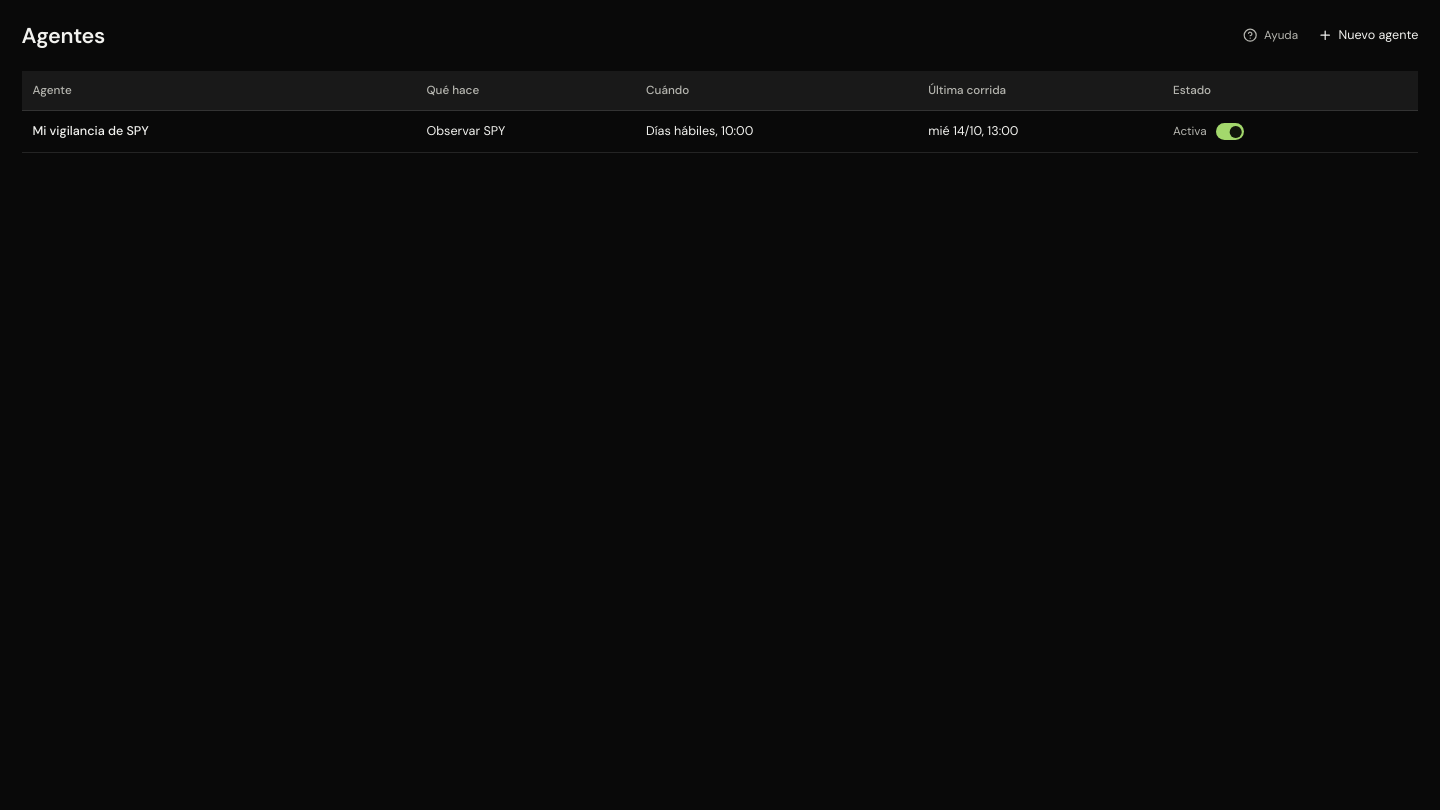
Test: edita instrucciones y modelo mediante un pedido pendiente, sin cambiar frecuencia ni estado
Click the button "Mi vigilancia de SPY" at (91, 131), box [32,123,149,139]
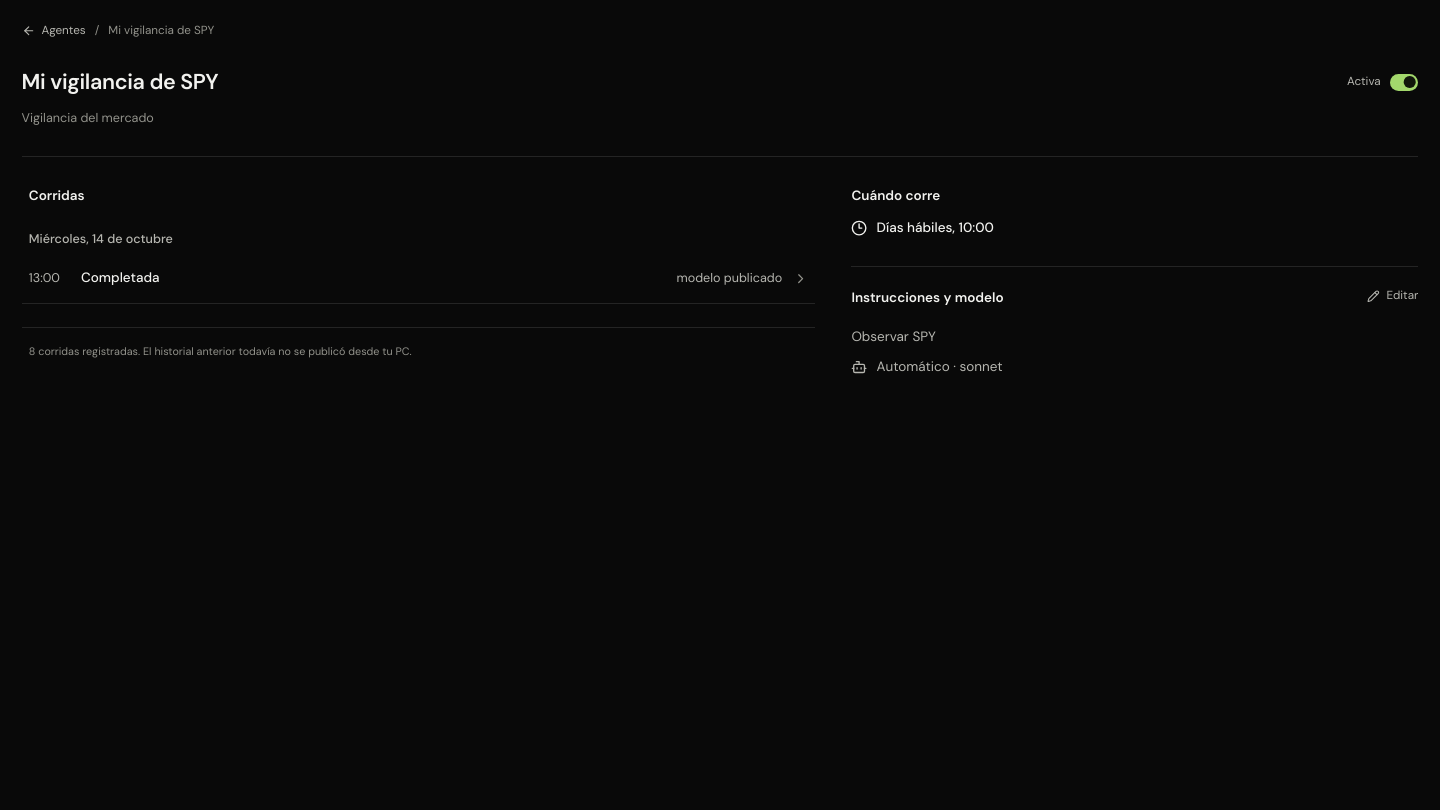
Click the button "Editar" at (1393, 296), box [1368,287,1418,305]
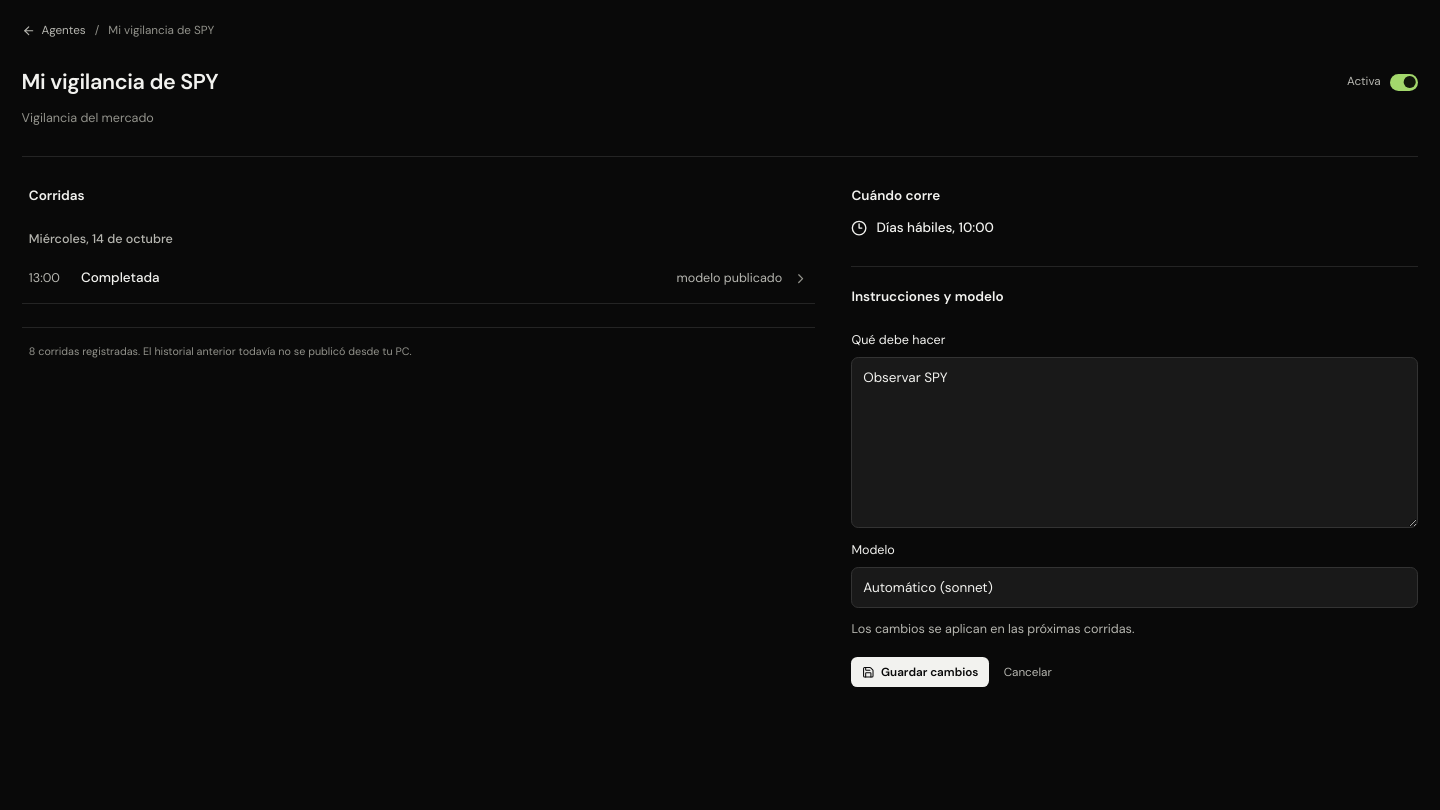
Replace the text in the text box labelled "Qué debe hacer" with "Observar QQQ y avisar" at (1135, 442), box [851,357,1418,528]
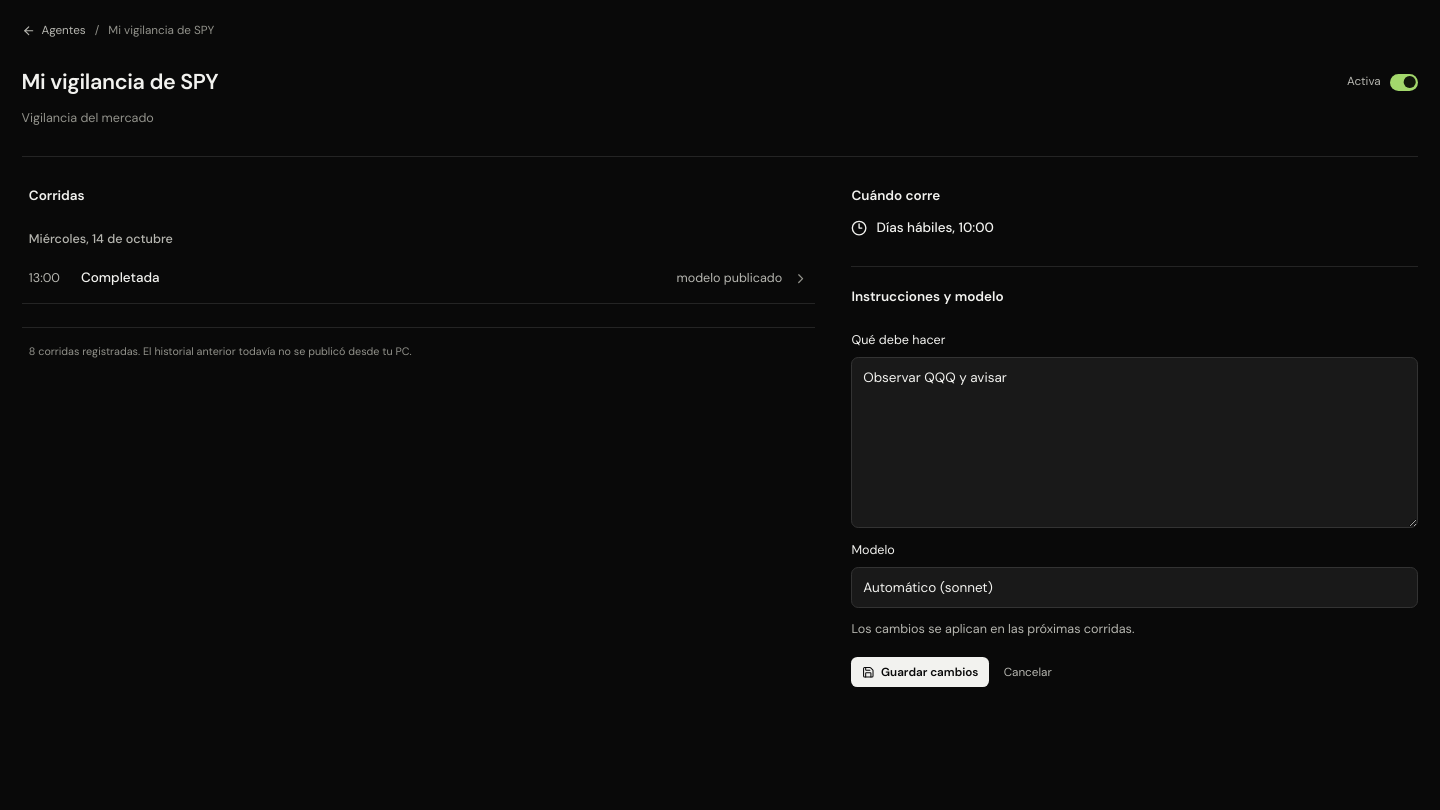
Select "Haiku" in the dropdown labelled "Modelo" at (1135, 588), box [851,567,1418,608]
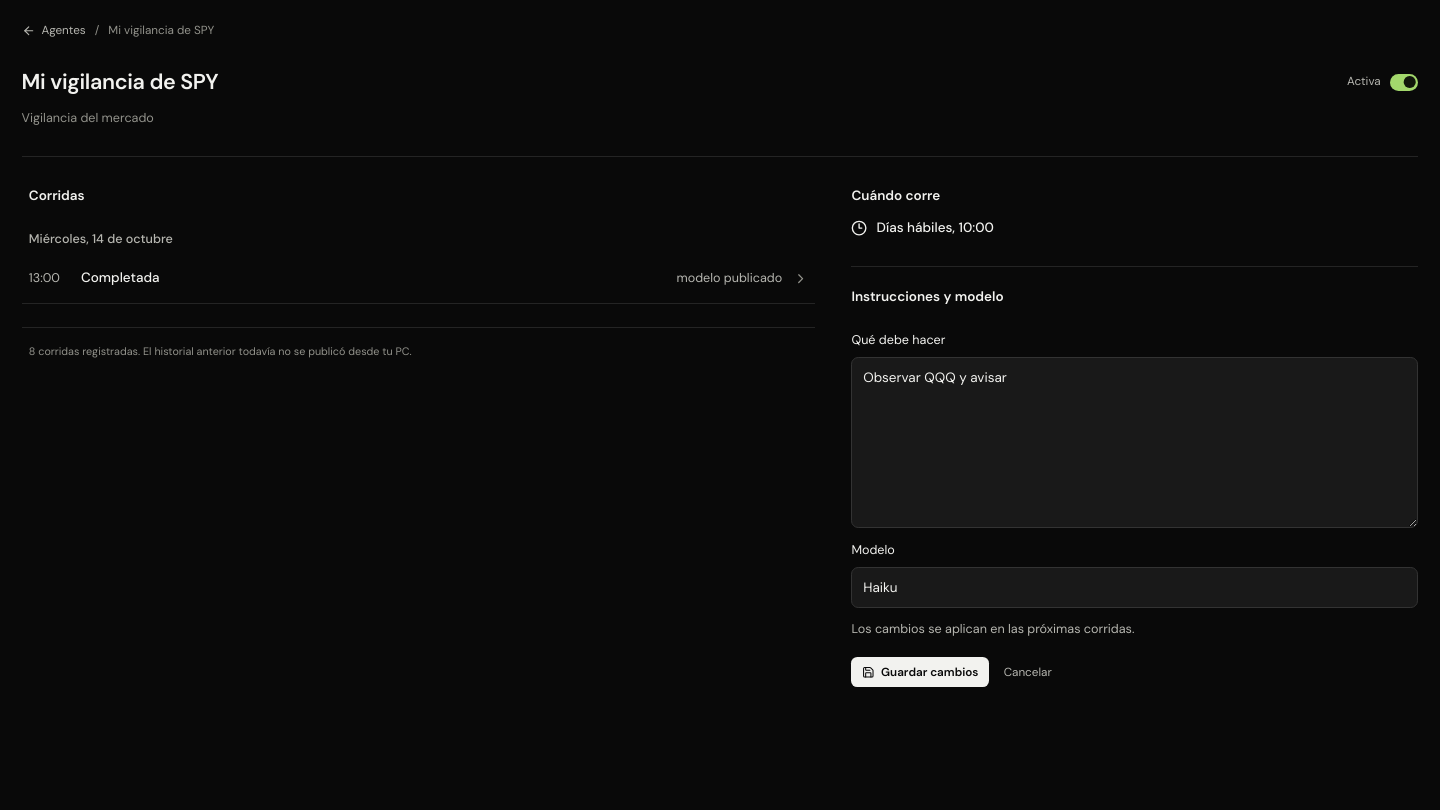
Click the button "Guardar cambios" at (920, 672), box [851,657,989,687]
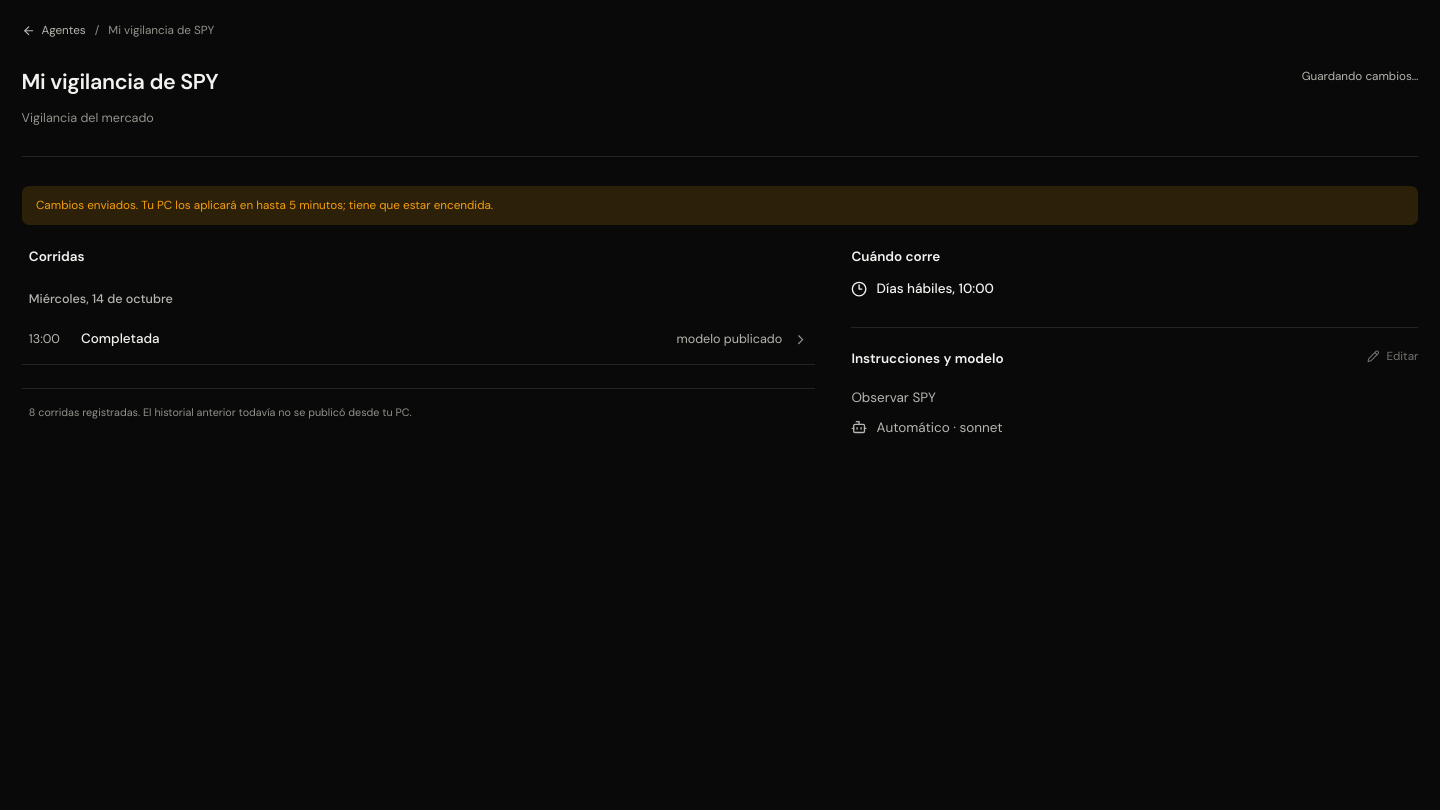
Result: the text "Guardando cambios…" is shown at [1302,68,1418,85]
Result: the button "Editar" is disabled at [1368,348,1418,365]
